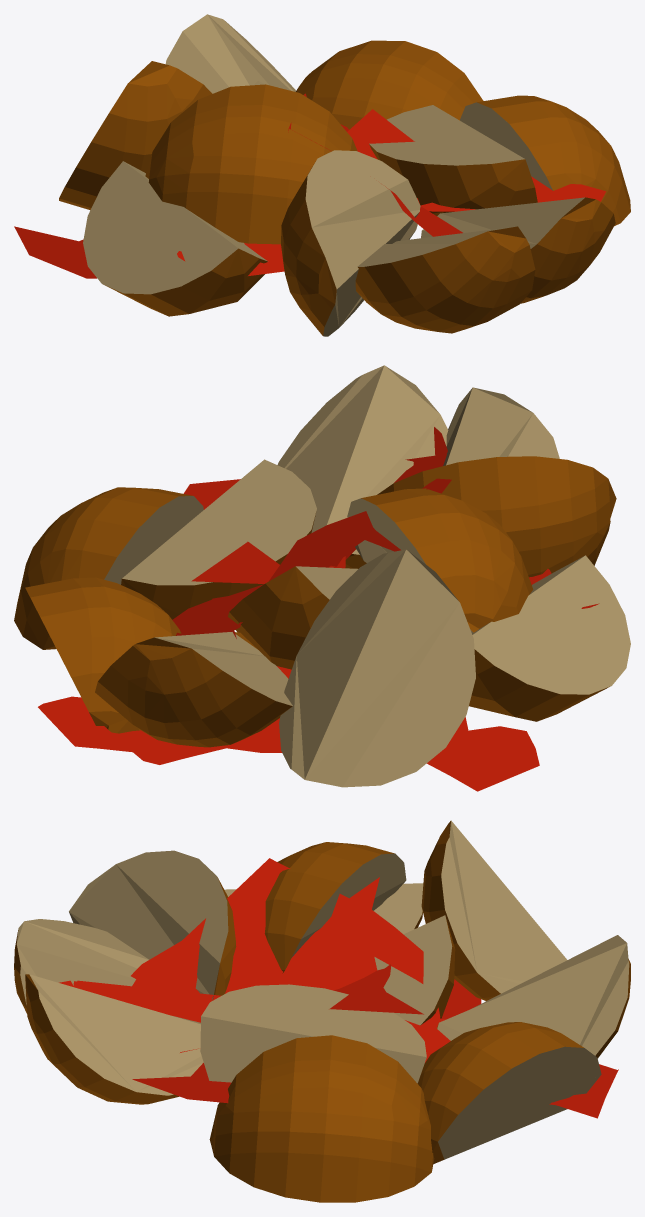
The model's file is patatas_cooked.fbx.
3 renders of one model, top to bottom at view 1: azimuth 30°, elevation 25°; view 2: azimuth 150°, elevation 25°; view 3: azimuth 270°, elevation 25°, orthographic. The views are drawn at different scales.
Parts seen in each view (by area): view 1: wedge19, wedge3, wedge21, wedge22, wedge9, wedge17, wedge7, wedge20, wedge23, wedge18, nurbsToPoly2, nurbsToPoly3 (+1 smaller); view 2: wedge20, wedge3, wedge18, wedge23, wedge21, wedge9, wedge19, wedge7, wedge17, nurbsToPoly3, wedge, nurbsToPoly1 (+2 smaller); view 3: wedge7, nurbsToPoly1, wedge17, wedge23, wedge21, wedge20, wedge9, wedge18, wedge19, wedge22, wedge, nurbsToPoly2 (+2 smaller).
Part boxes in pixels (x1,y1,x2,y2): wedge19: (145, 84, 357, 244); wedge3: (83, 161, 267, 316); wedge21: (281, 150, 420, 336); wedge22: (355, 226, 535, 333); wedge9: (369, 105, 537, 215); wedge17: (296, 40, 483, 129); wedge7: (460, 95, 630, 226); wedge20: (59, 61, 212, 209); wedge23: (421, 197, 615, 303); wedge18: (165, 14, 295, 93); nurbsToPoly2: (177, 109, 605, 275); nurbsToPoly3: (14, 226, 96, 278); wedge20: (279, 549, 475, 787); wedge3: (469, 555, 630, 721); wedge18: (95, 632, 292, 747); wedge23: (277, 365, 448, 568); wedge21: (377, 456, 616, 577); wedge9: (121, 459, 316, 619); wedge19: (347, 488, 533, 632); wedge7: (14, 487, 203, 649); wedge17: (25, 577, 181, 733); nurbsToPoly3: (38, 666, 539, 791); wedge: (228, 566, 357, 669); nurbsToPoly1: (172, 427, 451, 638); wedge7: (209, 1035, 434, 1202); nurbsToPoly1: (59, 858, 450, 1062); wedge17: (417, 1022, 601, 1163); wedge23: (25, 974, 203, 1104); wedge21: (69, 850, 236, 1000); wedge20: (421, 820, 567, 1000); wedge9: (200, 984, 426, 1083); wedge18: (437, 935, 630, 1058); wedge19: (264, 842, 406, 973); wedge22: (14, 919, 148, 1013); wedge: (374, 915, 455, 1025); nurbsToPoly2: (132, 964, 423, 1103).
Size of the model in its own units: 21.52 by 7.25 by 21.51.
